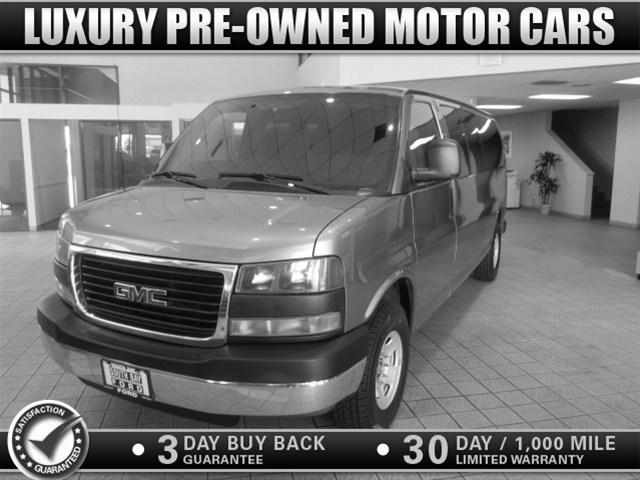car: (32, 84, 511, 432)
